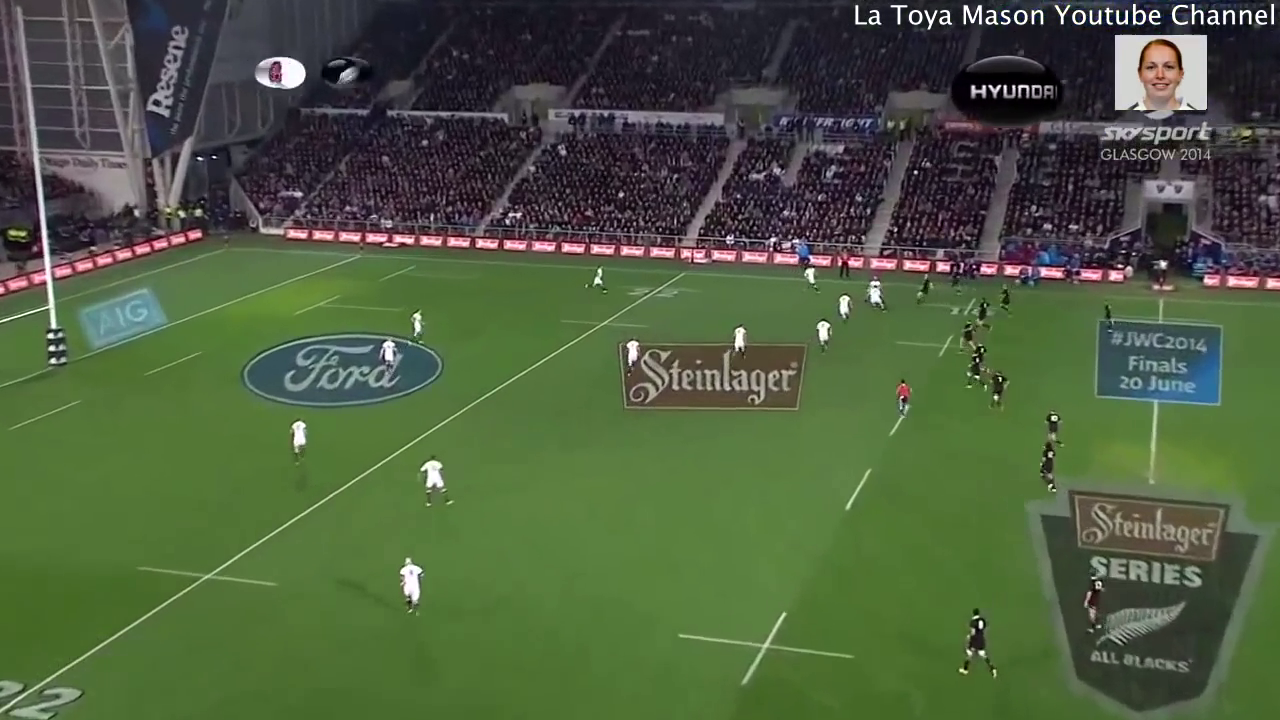10_metre: (671, 603, 861, 702), (894, 331, 983, 365), (917, 291, 1007, 322)
player: (951, 602, 1008, 688), (409, 441, 466, 520), (387, 544, 434, 631), (1074, 561, 1114, 637), (277, 415, 319, 473), (858, 272, 898, 319), (372, 335, 406, 386), (1031, 434, 1058, 497), (1035, 403, 1071, 450), (984, 364, 1013, 419), (405, 305, 431, 356), (812, 315, 839, 363), (831, 287, 861, 329), (583, 260, 614, 300), (962, 348, 988, 395), (796, 263, 828, 300), (620, 332, 645, 379), (725, 322, 754, 361), (913, 272, 941, 310), (994, 281, 1021, 317), (956, 320, 979, 359), (1095, 299, 1119, 336), (971, 296, 992, 335), (970, 340, 990, 367)
post: (1, 75, 72, 384)
